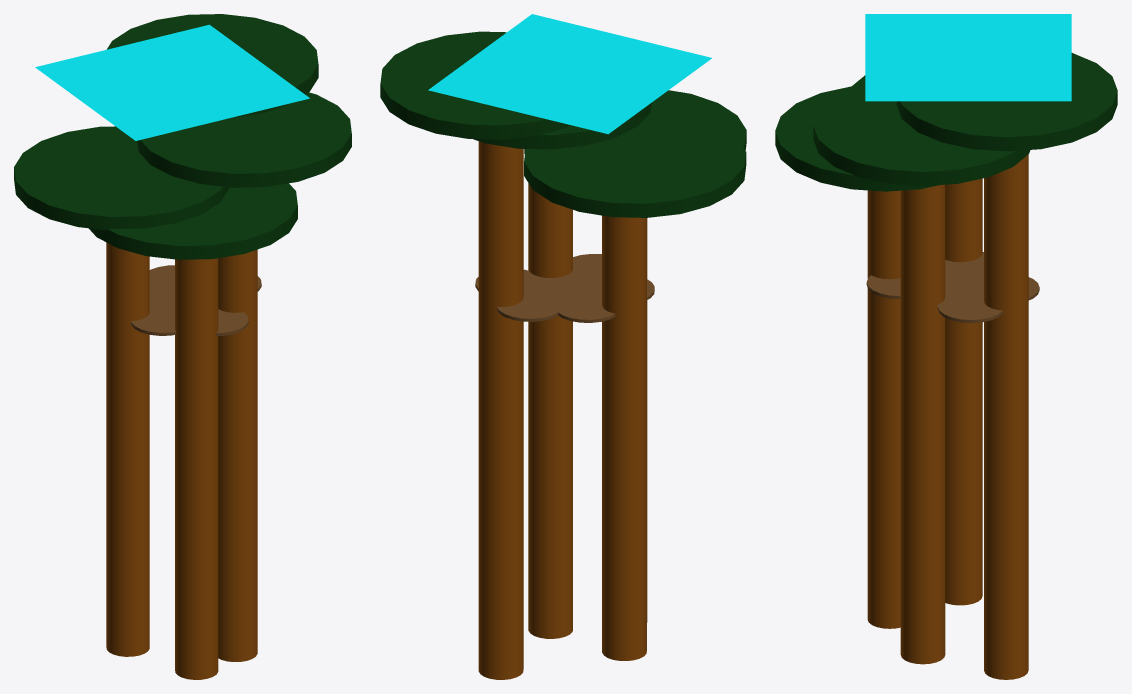
File: Gathering Area 01.fbx
3 views of the same model, side by side, from view 1: azimuth 30°, elevation 25°; view 2: azimuth 150°, elevation 25°; view 3: azimuth 270°, elevation 25° (orthographic). The views are drawn at different scales.
Visible parts, largest first — view 1: Tree_01, Tree_01__1_, Plane, Tree, Branches__1__1, Branches, Branches__1_, Branches_1, Gathering_Area__4_, Gathering_Area__3_, Gathering_Area__6_; view 2: Tree_02__1_, Tree_01__1_, Plane, Tree, Branches__1__1, Branches_1, Branches, Branches__1_, Gathering_Area__6_, Gathering_Area__5_, Gathering_Area__2_, Gathering_Area__3_; view 3: Tree_02__1_, Tree, Plane, Tree_01, Tree_01__1_, Branches, Branches_1, Branches__1_, Gathering_Area, Gathering_Area__2_, Gathering_Area__3_, Gathering_Area__5_.
Boxes of the visible parts, x1,y1,x2,y2 form: Tree_01: [175, 258, 218, 679]; Tree_01__1_: [106, 242, 149, 656]; Plane: [35, 24, 309, 140]; Tree: [218, 249, 257, 661]; Branches__1__1: [14, 126, 229, 230]; Branches: [137, 92, 351, 187]; Branches__1_: [89, 183, 297, 259]; Branches_1: [107, 14, 318, 117]; Gathering_Area__4_: [131, 305, 175, 335]; Gathering_Area__3_: [216, 310, 248, 335]; Gathering_Area__6_: [149, 265, 174, 292]; Tree_02__1_: [478, 141, 523, 679]; Tree_01__1_: [602, 215, 646, 660]; Plane: [428, 14, 711, 134]; Tree: [528, 183, 572, 638]; Branches__1__1: [524, 110, 746, 217]; Branches_1: [380, 31, 570, 139]; Branches: [473, 103, 651, 149]; Branches__1_: [524, 90, 746, 154]; Gathering_Area__6_: [497, 290, 563, 321]; Gathering_Area__5_: [555, 291, 615, 322]; Gathering_Area__2_: [526, 271, 591, 298]; Gathering_Area__3_: [566, 254, 601, 282]; Tree_02__1_: [984, 154, 1028, 679]; Tree: [900, 184, 945, 664]; Plane: [865, 14, 1071, 101]; Tree_01: [867, 190, 900, 628]; Tree_01__1_: [945, 178, 982, 605]; Branches: [813, 86, 1030, 185]; Branches_1: [896, 53, 1117, 151]; Branches__1_: [775, 86, 939, 191]; Gathering_Area: [937, 291, 1002, 323]; Gathering_Area__2_: [944, 272, 982, 300]; Gathering_Area__3_: [866, 275, 900, 299]; Gathering_Area__5_: [946, 252, 983, 279].
Bounding box in the file's own units: 7989 × 14577 × 7686.
